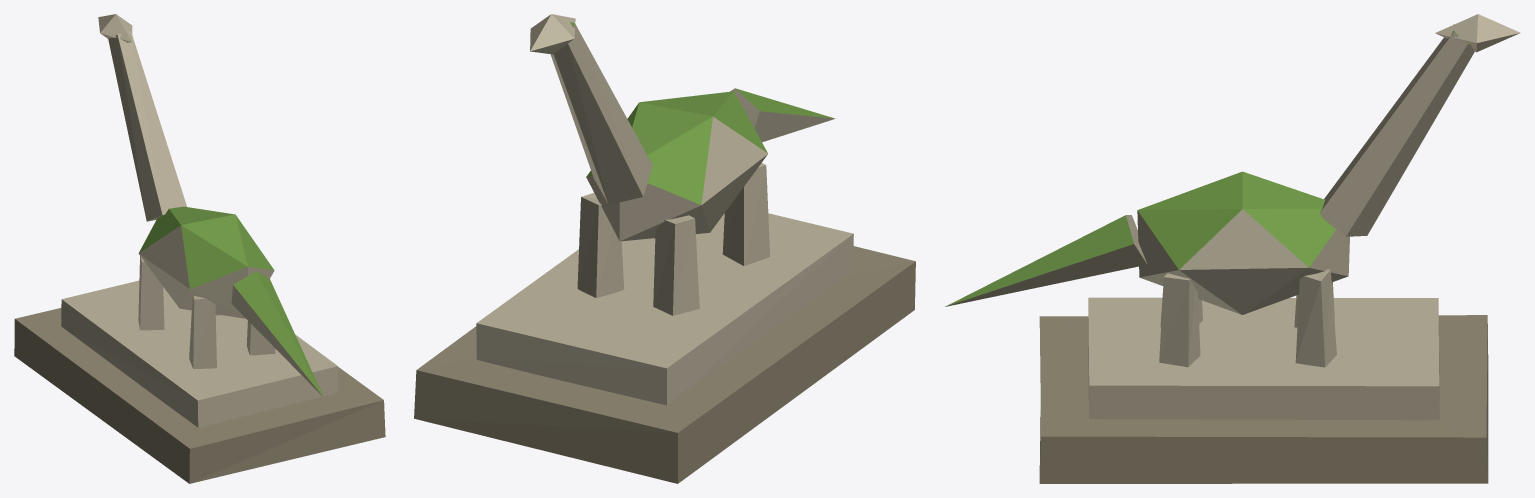
File: world_landmark_dino_statue.obj
3 views of the same model, side by side, from view 1: azimuth 30°, elevation 25°; view 2: azimuth 150°, elevation 25°; view 3: azimuth 270°, elevation 25° (orthographic). The views are drawn at different scales.
Parts seen in each view (by area): view 1: world_landmark_dino_statue; view 2: world_landmark_dino_statue; view 3: world_landmark_dino_statue.
Part boxes in pixels (bbox=[...]): world_landmark_dino_statue: bbox=[14, 14, 385, 483]; world_landmark_dino_statue: bbox=[414, 14, 915, 483]; world_landmark_dino_statue: bbox=[945, 14, 1520, 483].
Size of the model in its own units: 9.04 by 14.18 by 18.09.
